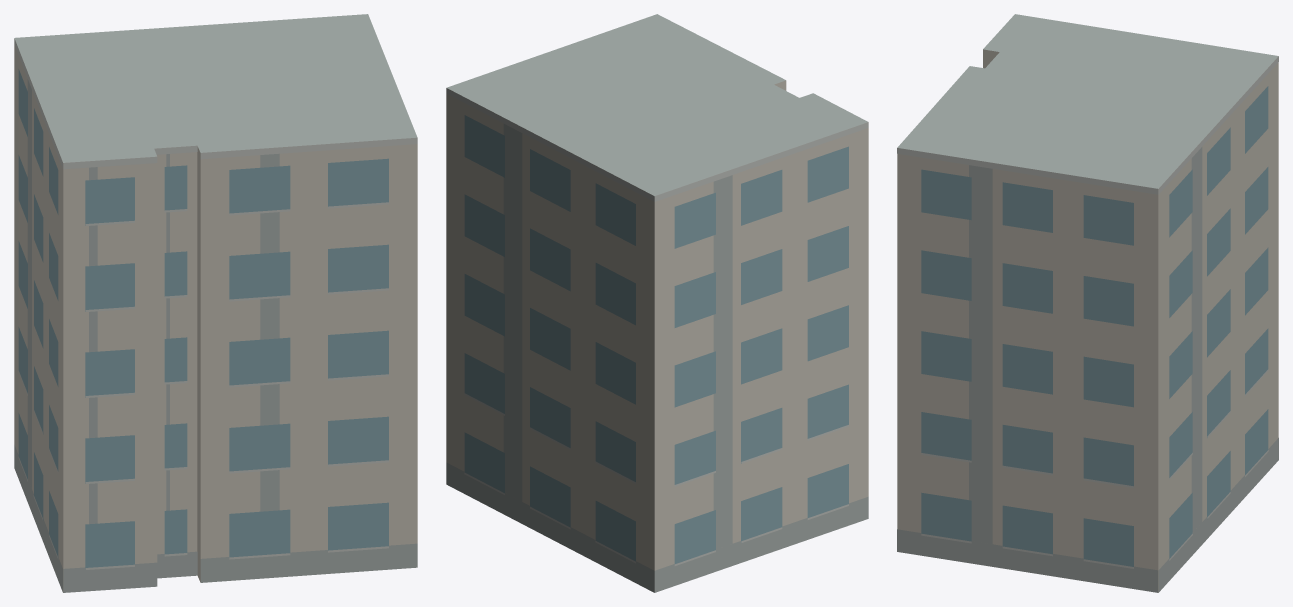
File: survey-upis-32891034.glb
3 views of the same model, side by side, from view 1: azimuth 30°, elevation 25°; view 2: azimuth 150°, elevation 25°; view 3: azimuth 270°, elevation 25° (orthographic). The views are drawn at different scales.
Parts seen in each view (by area): view 1: survey-upis-32891034.tmp; view 2: survey-upis-32891034.tmp; view 3: survey-upis-32891034.tmp.
Part boxes in pixels (x1=…): survey-upis-32891034.tmp: x1=14, y1=14, x2=417, y2=592; survey-upis-32891034.tmp: x1=446, y1=14, x2=868, y2=592; survey-upis-32891034.tmp: x1=897, y1=14, x2=1278, y2=592.
Bounding box in the file's own units: 15.28 × 16.45 × 14.09.
